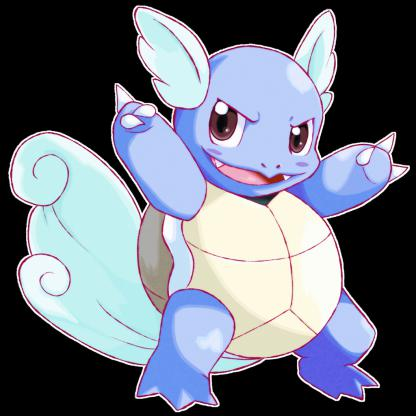Wartortle: (1, 4, 416, 410)
